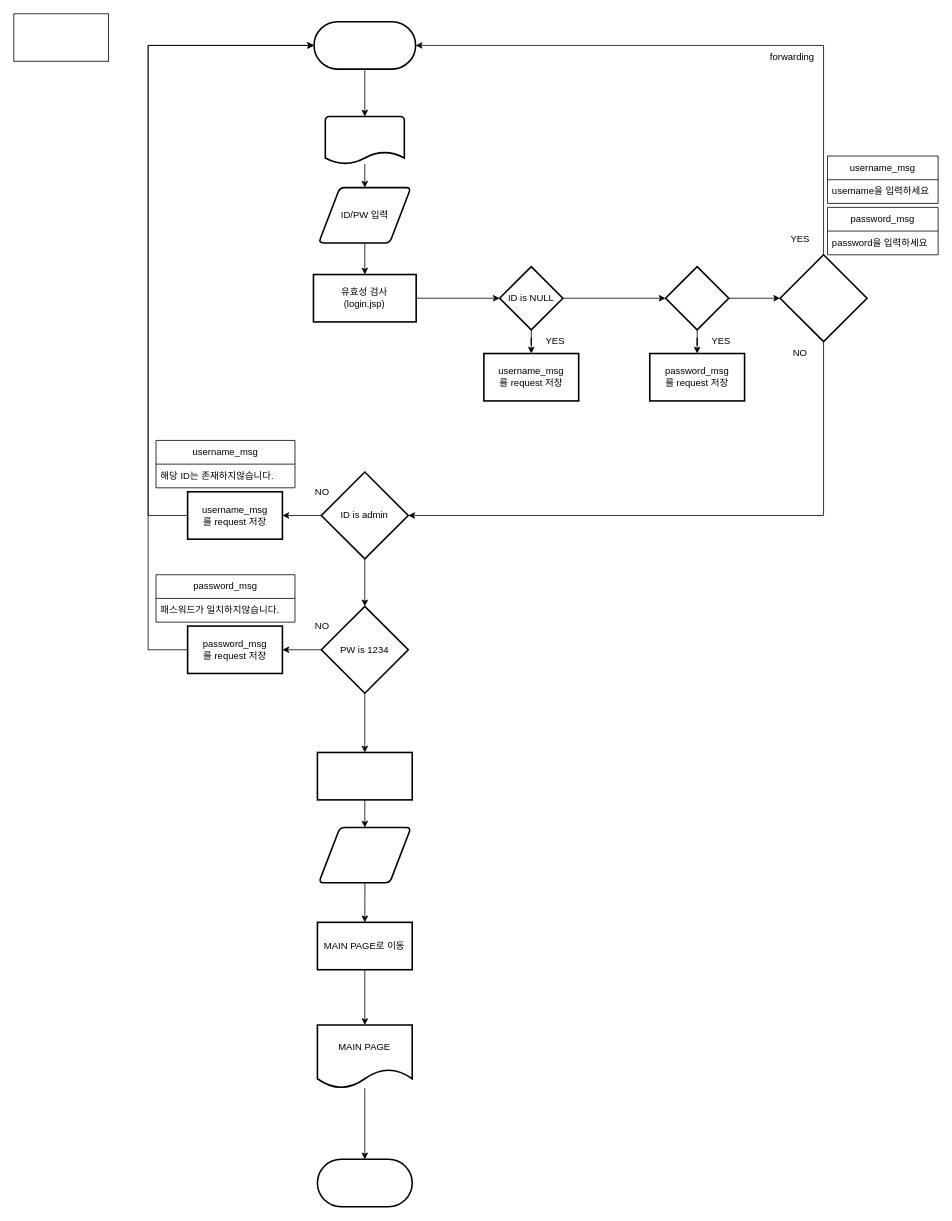
This 952x1221 diagram has some shape labels left out. The shapes that lost their labels are listed below. From the top down, each one's box as (x1, y1, x2, y2) in pixels, then its label:
(13, 13, 109, 61): 로그인 PROCESS
(313, 21, 416, 70): 시작
(324, 115, 405, 164): 로그인 폼 (login_form.jsp)
(664, 265, 729, 330): PW is NULL
(779, 254, 867, 342): ID is NULL or PW is NULL
(316, 751, 413, 800): 사용자 정보를 저장 isAuth/Role
(318, 826, 411, 883): MAIN PAGE 이동 출력
(316, 1158, 413, 1207): 종료
